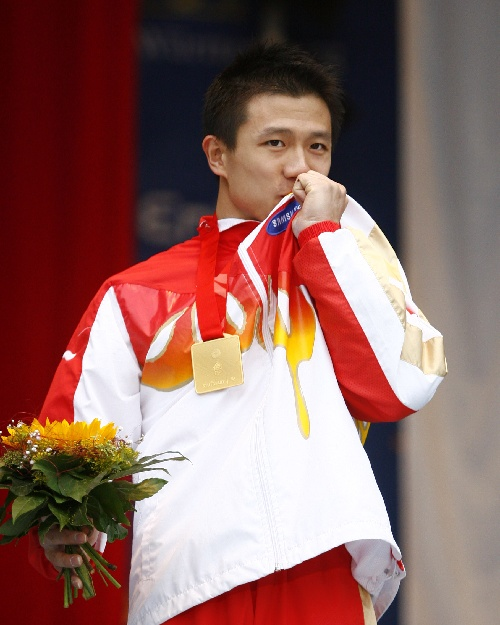face: (230, 86, 332, 235)
